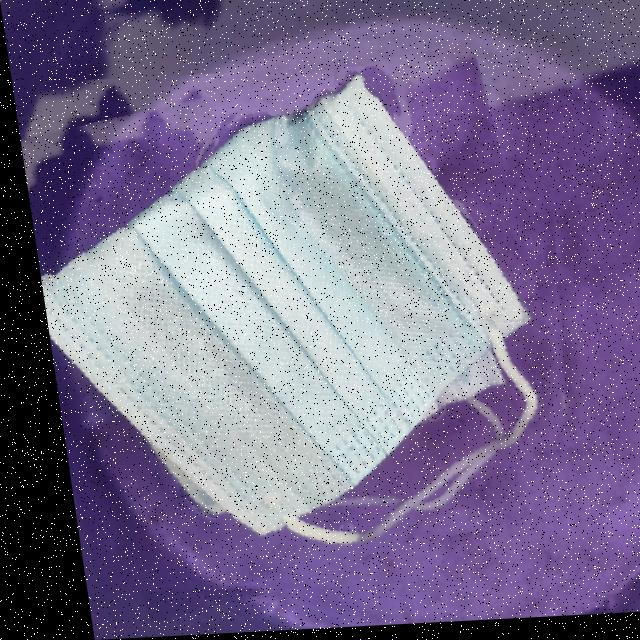litter: (10, 62, 602, 604)
